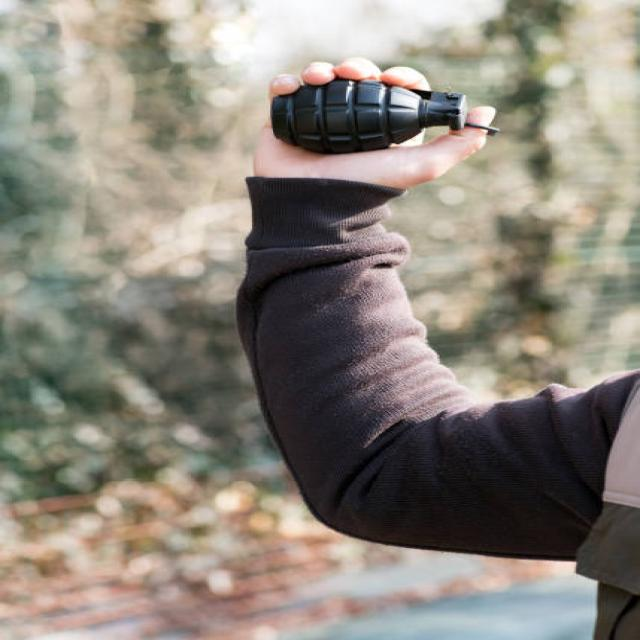grenade: (267, 74, 480, 157)
